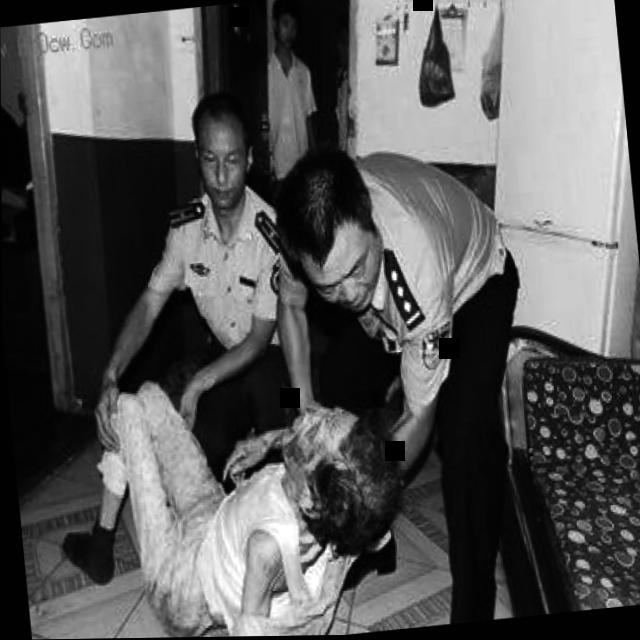Fall-Detected: (31, 326, 430, 640)
